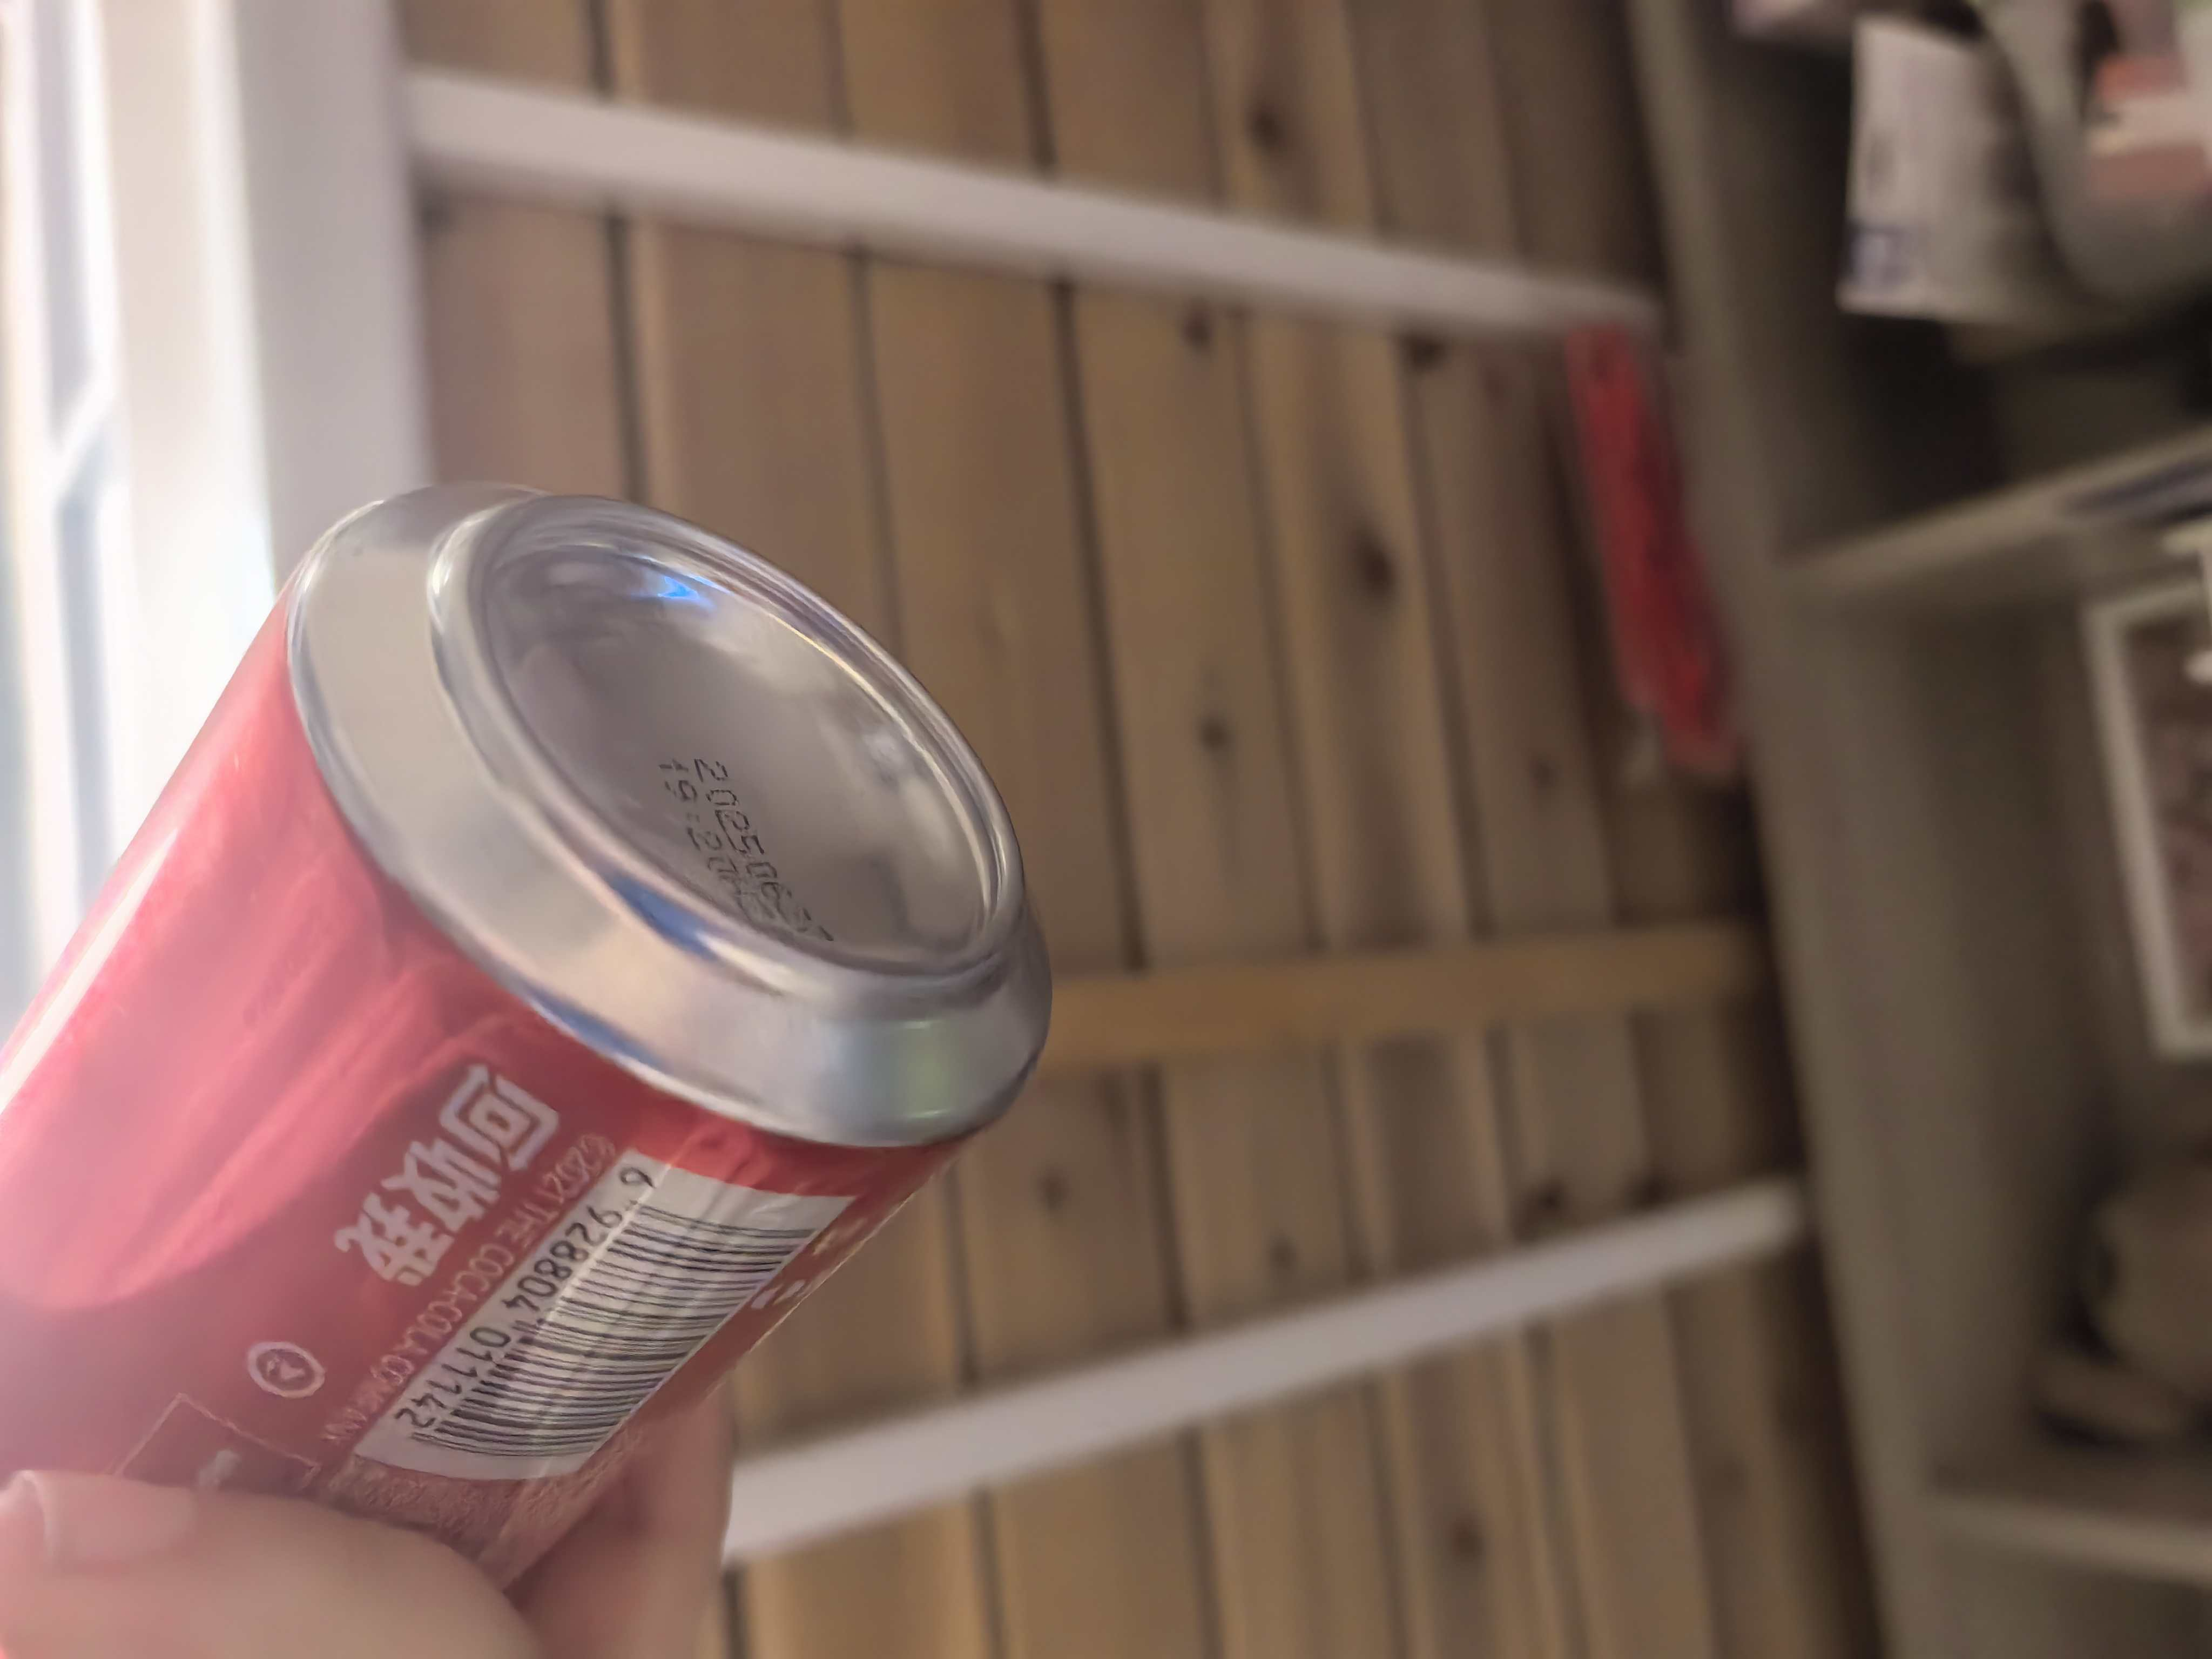可乐: (16, 509, 1111, 1577)
